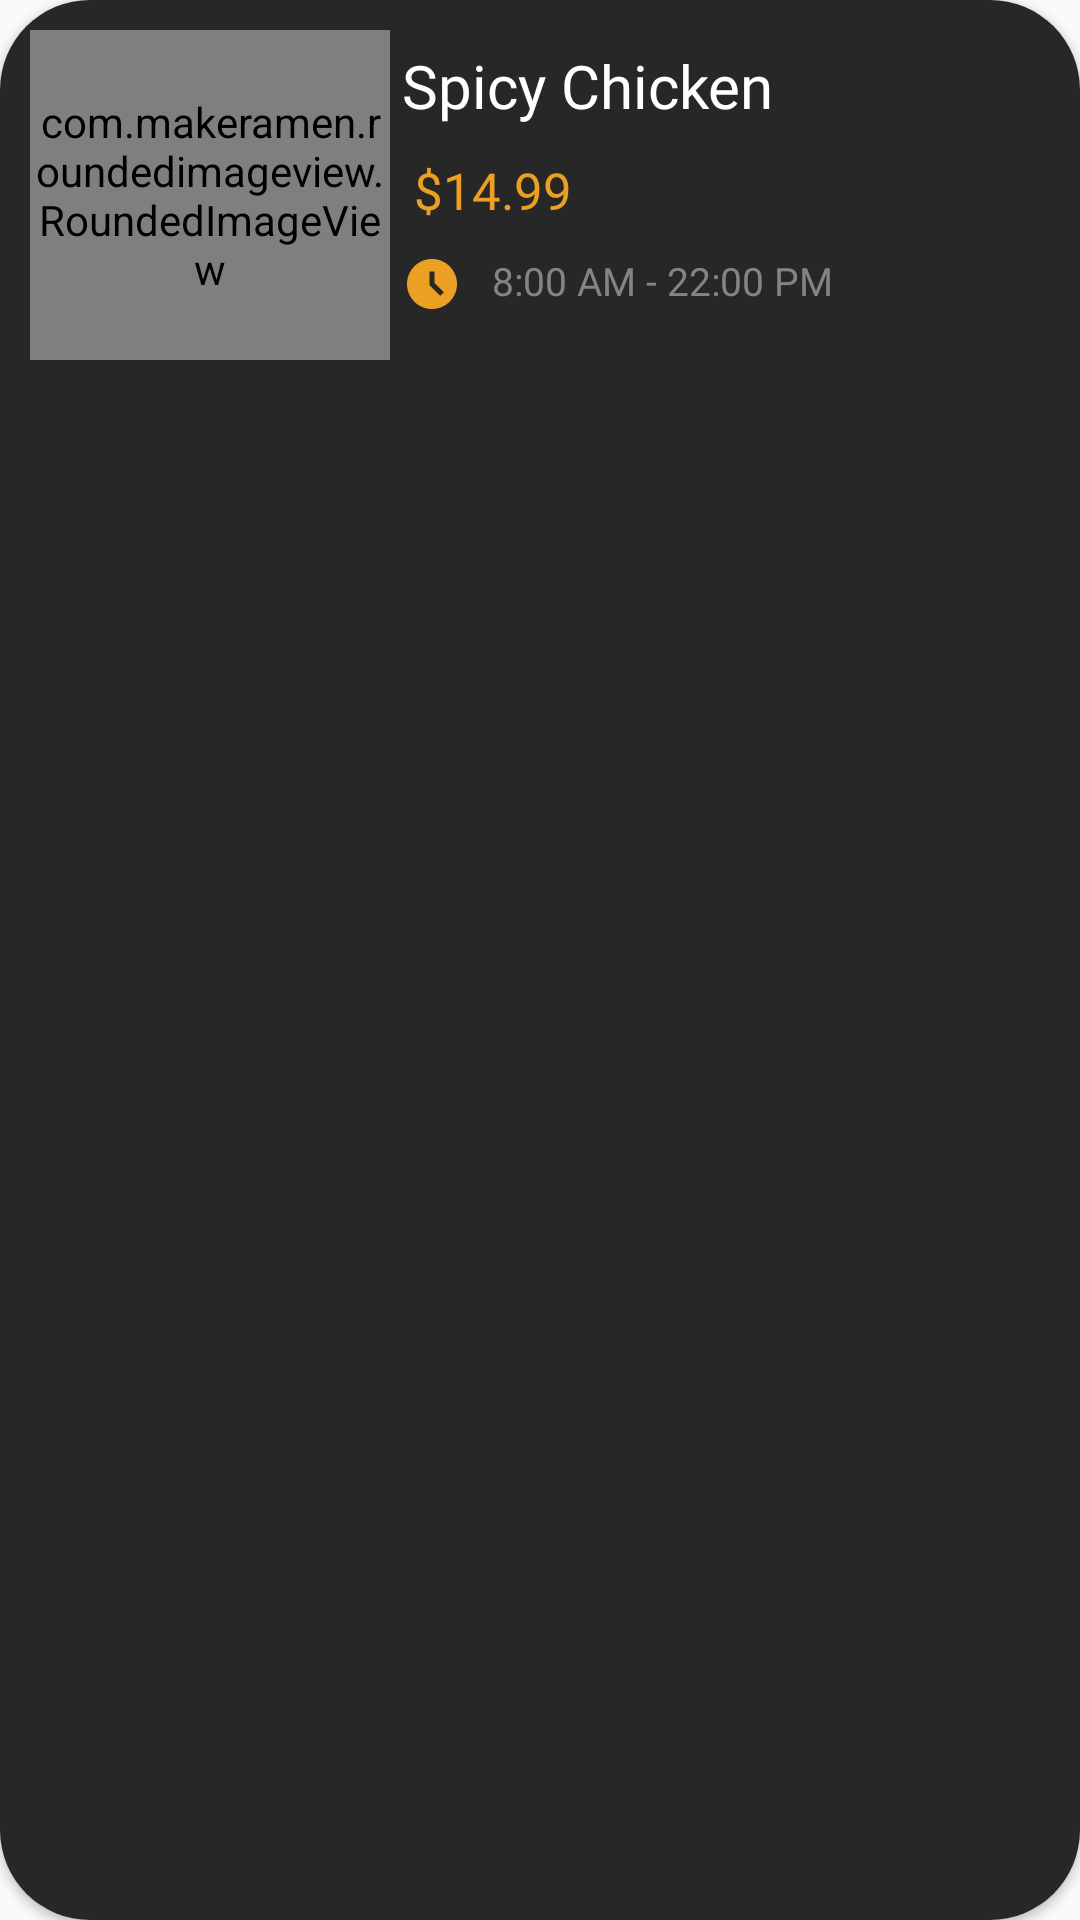

Where to tap for icons on this 1080px x 1920px app screen, as [x,y]:
access time: [432,284]
